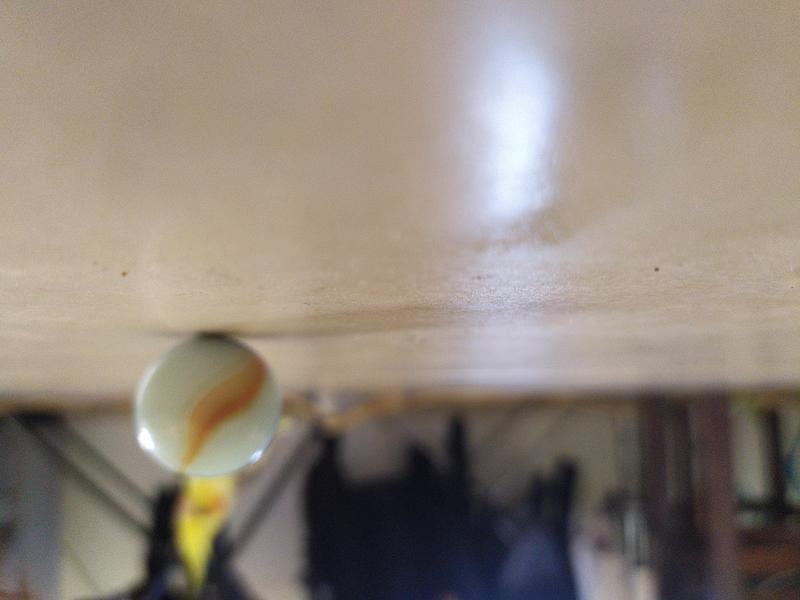Warning: (129, 329, 284, 482)
